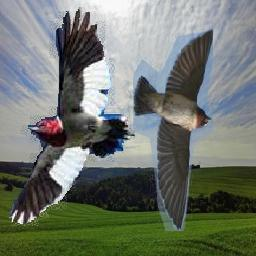Swallow: (133, 29, 213, 231)
Woodpecker: (9, 8, 137, 227)
